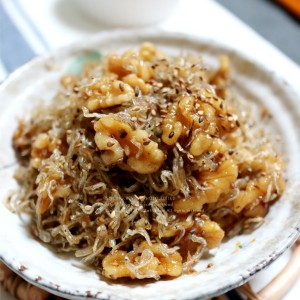myeolchibokk-eum: (13, 44, 289, 283)
